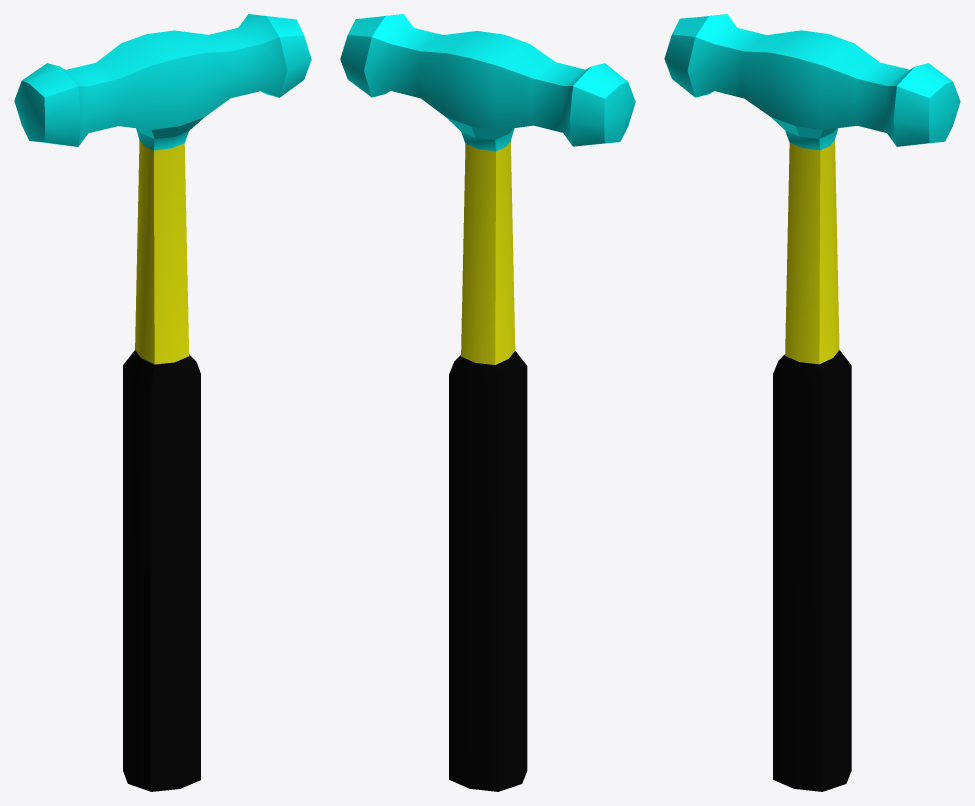
The model's file is TextureHammer.obj.
3 renders of one model, left to right at view 1: azimuth 30°, elevation 25°; view 2: azimuth 150°, elevation 25°; view 3: azimuth 330°, elevation 25°, orthographic.
Visible parts, largest first — view 1: HammerModel; view 2: HammerModel; view 3: HammerModel.
Boxes of the visible parts, x1,y1,x2,y2 form: HammerModel: [14, 14, 311, 791]; HammerModel: [340, 14, 635, 791]; HammerModel: [664, 14, 960, 791].
Size of the model in its own units: 5.27 by 13.51 by 1.42.
